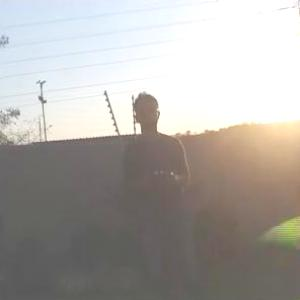follow: (121, 87, 195, 299)
